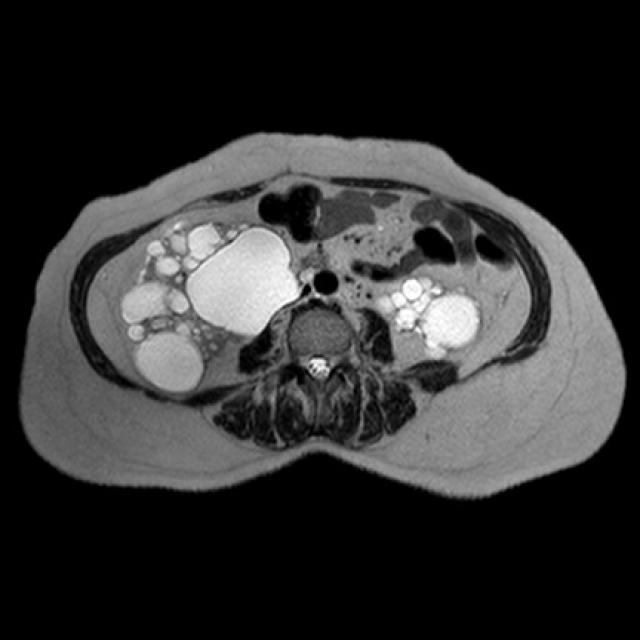sag: (118, 216, 303, 395)
sol: (376, 273, 484, 359)
